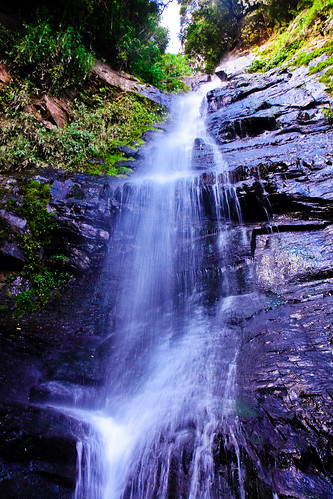wufengciWaterfall: (42, 47, 283, 488)
